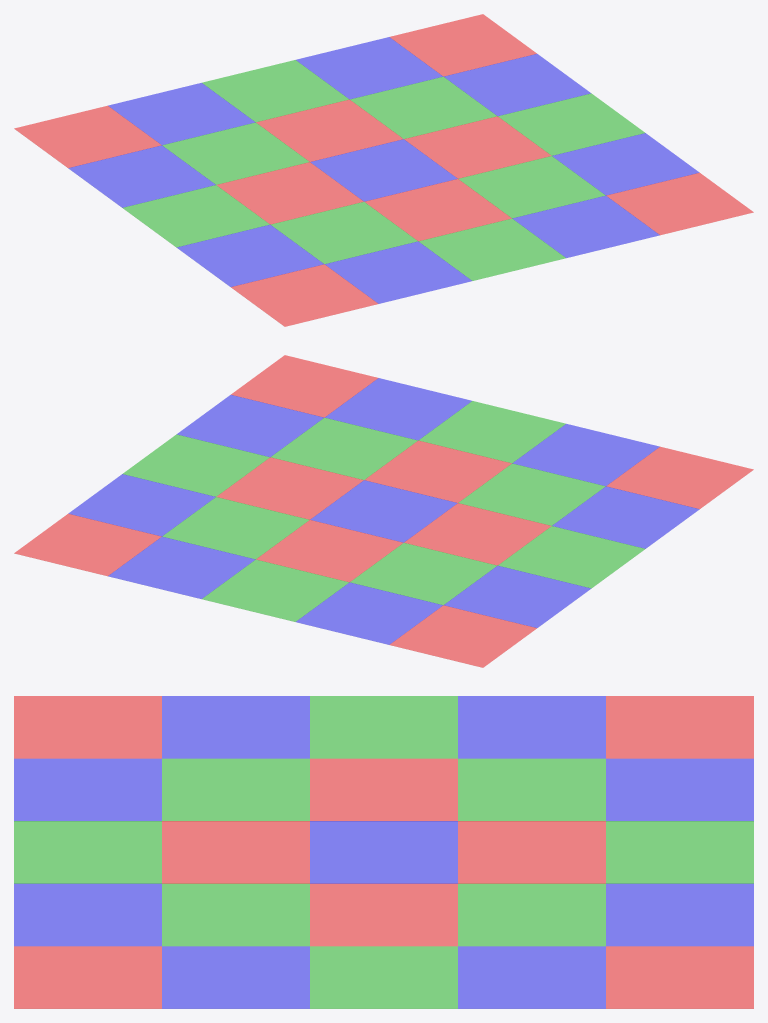
The model's file is colored-floor.glb.
3 views of the same model, one above another, from view 1: azimuth 30°, elevation 25°; view 2: azimuth 150°, elevation 25°; view 3: azimuth 270°, elevation 25° (orthographic). The views are drawn at different scales.
Visible parts, largest first — view 1: Object_78, Object_66, Object_69, Object_72, Object_75, Object_33, Object_18, Object_48, Object_63, Object_6, Object_36, Object_42 (+13 smaller); view 2: Object_18, Object_6, Object_9, Object_12, Object_15, Object_63, Object_78, Object_48, Object_33, Object_36, Object_42, Object_66 (+13 smaller); view 3: Object_9, Object_24, Object_39, Object_54, Object_69, Object_6, Object_12, Object_15, Object_18, Object_21, Object_27, Object_30 (+13 smaller).
Boxes of the visible parts, x1,y1,x2,y2 form: Object_78: (231,264,377,326); Object_66: (606,172,753,235); Object_69: (512,195,659,257); Object_72: (419,218,565,280); Object_75: (325,241,471,303); Object_33: (68,145,215,207); Object_18: (14,105,161,167); Object_48: (123,185,269,247); Object_63: (177,225,323,286); Object_6: (390,14,536,76); Object_36: (498,93,644,155); Object_42: (310,139,457,201); Object_18: (390,605,536,667); Object_6: (14,513,161,576); Object_9: (108,536,255,598); Object_12: (202,559,348,621); Object_15: (296,582,442,644); Object_63: (552,486,699,548); Object_78: (606,446,753,508); Object_48: (498,526,644,588); Object_33: (444,566,590,627); Object_36: (123,434,269,496); Object_42: (310,480,457,542); Object_66: (231,355,377,417); Object_9: (606,883,753,946); Object_24: (458,883,605,946); Object_39: (310,883,457,946); Object_54: (162,883,309,946); Object_69: (14,883,161,946); Object_6: (606,946,753,1008); Object_12: (606,821,753,883); Object_15: (606,758,753,820); Object_18: (606,696,753,758); Object_21: (458,946,605,1008); Object_27: (458,821,605,883); Object_30: (458,758,605,820).
Size of the model in its own units: 30 by 0.01 by 30.
